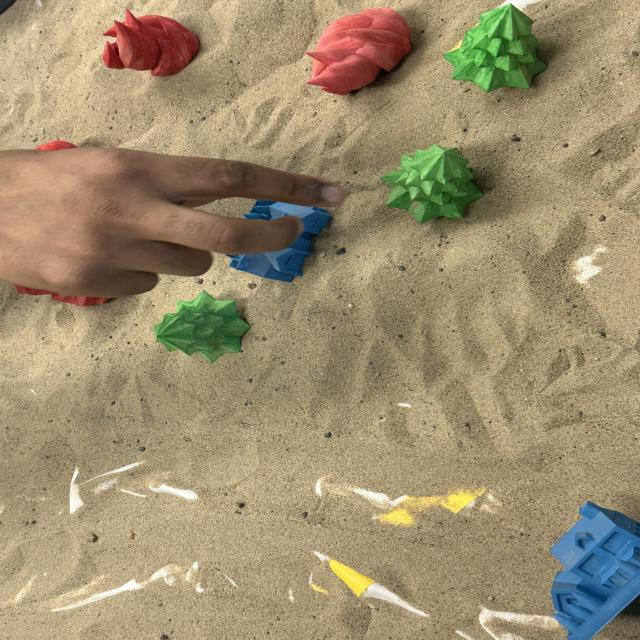fire: (304, 6, 412, 96), (100, 8, 202, 78)
house: (546, 499, 638, 638), (225, 197, 333, 283)
tree: (441, 3, 549, 93), (378, 142, 484, 224), (155, 289, 255, 359)
